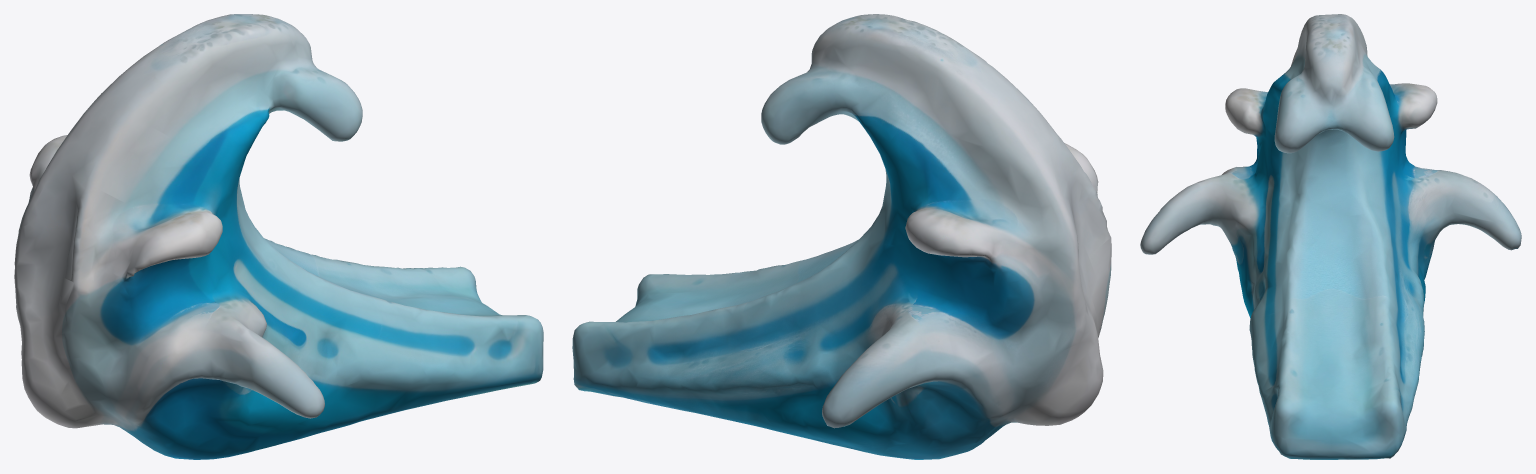
File: wave.fbx
3 renders of one model, left to right at view 1: azimuth 30°, elevation 25°; view 2: azimuth 150°, elevation 25°; view 3: azimuth 270°, elevation 25°, orthographic. The views are drawn at different scales.
Parts seen in each view (by area): view 1: Mesh_0; view 2: Mesh_0; view 3: Mesh_0.
Part boxes in pixels (bbox=[...]): Mesh_0: bbox=[14, 14, 543, 459]; Mesh_0: bbox=[572, 14, 1111, 459]; Mesh_0: bbox=[1140, 14, 1521, 459].
Size of the model in its own units: 120 by 97.16 by 102.
Materials: 1 (1 with a texture image).
